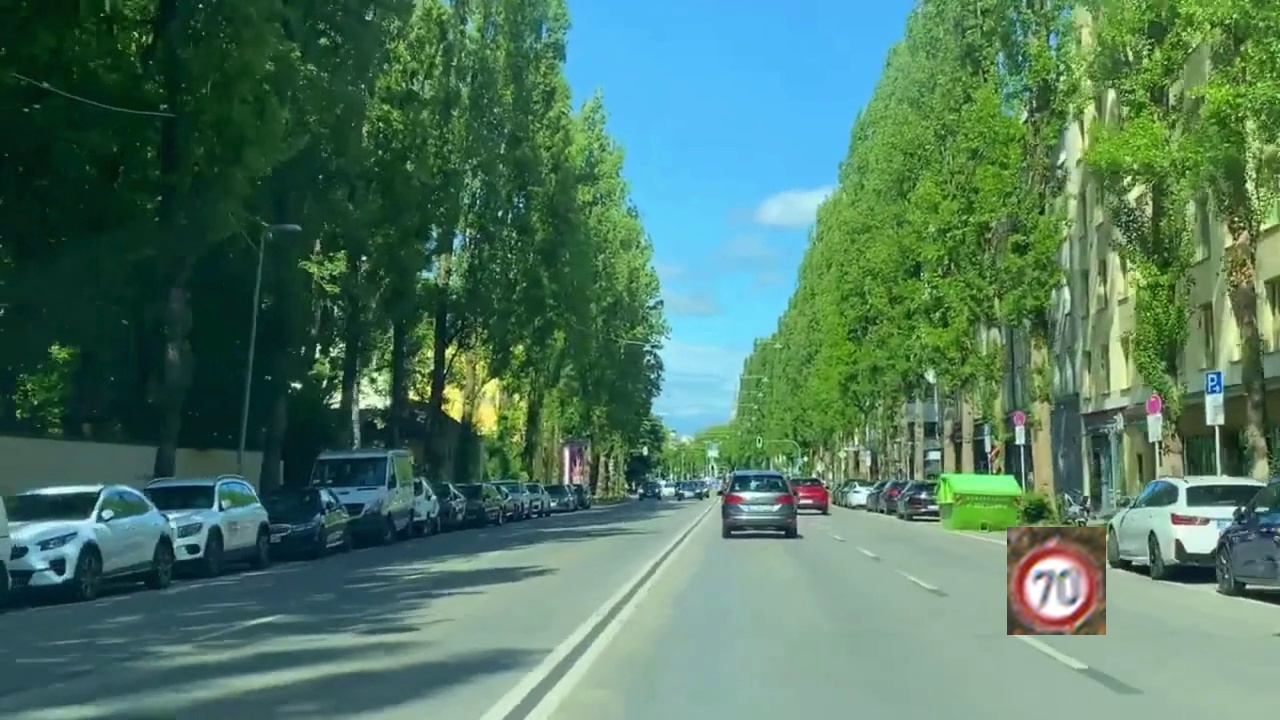Speed 70: (1007, 527, 1106, 635)
